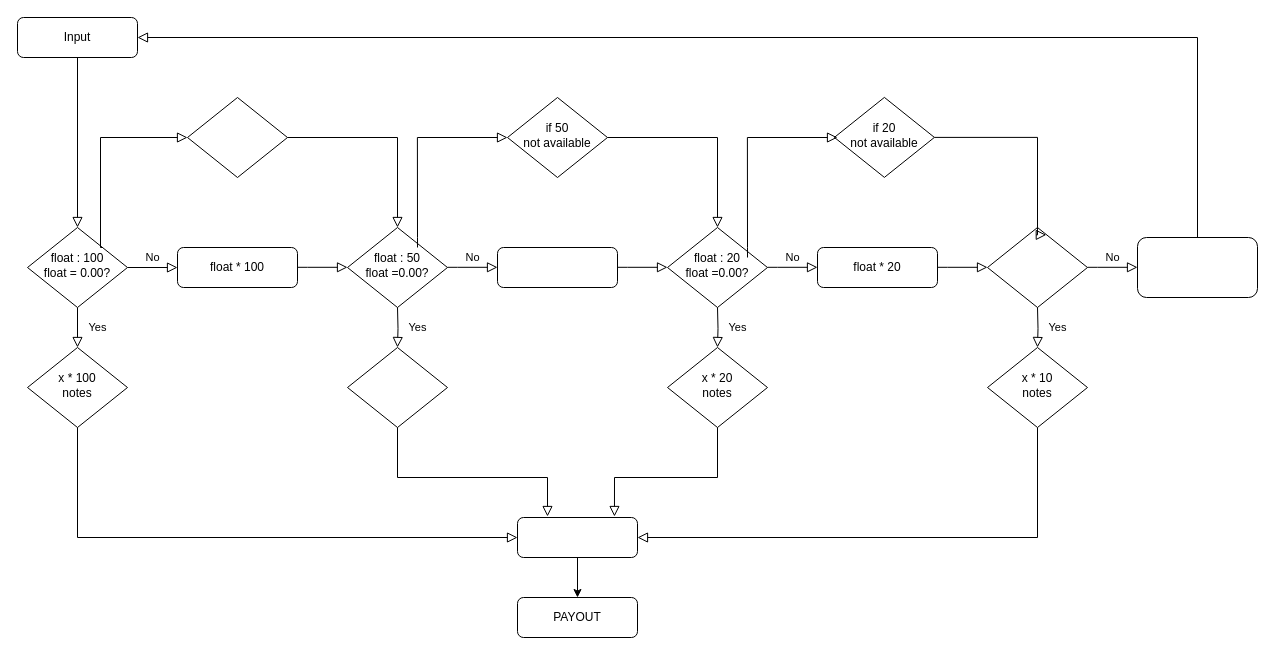
This 1275x655 diagram has some shape labels left out. The centre of each missing label's shape, as x and y in pixels:
"float * 50" goes at pixel 557 267.
"float : 10 float =0.00?" goes at pixel 1037 267.
"if 100 not available" goes at pixel 237 137.
"Invalid Input try again" goes at pixel 1197 267.
"save and add up sum" goes at pixel 577 537.
"x * 50 notes" goes at pixel 397 387.
